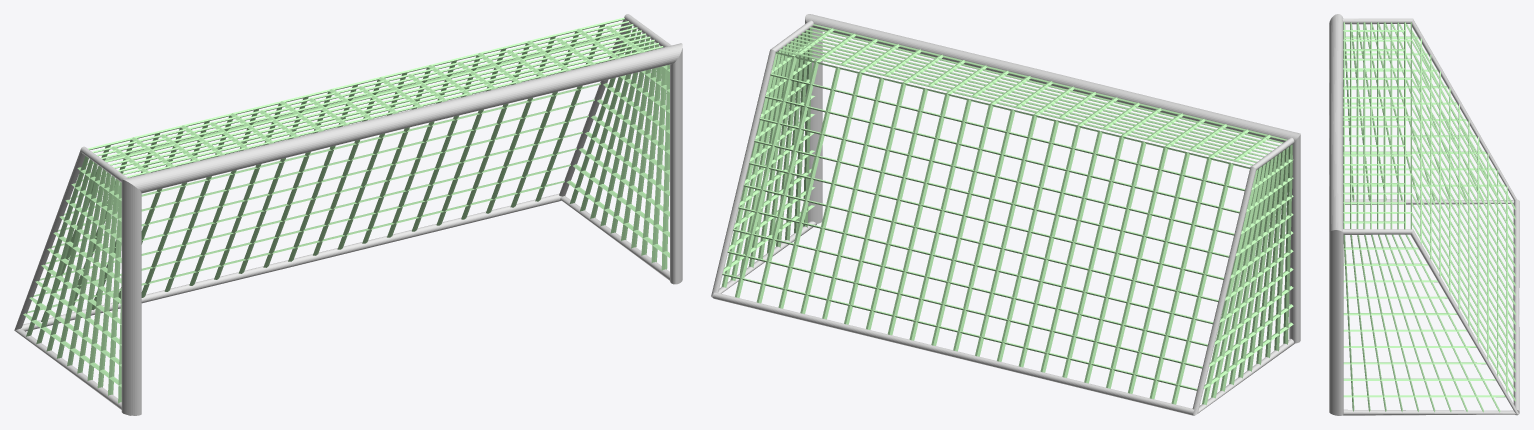
File: Goal.fbx
The picture shows the model from 3 angles, left to right: view 1: azimuth 30°, elevation 25°; view 2: azimuth 150°, elevation 25°; view 3: azimuth 270°, elevation 25°; orthographic projection. The views are drawn at different scales.
Visible parts, largest first — view 1: Cube, Cylinder, Plane; view 2: Cube, Cylinder, Plane; view 3: Cube, Cylinder, Plane.
Part boxes in pixels (x1,y1,x2,y2): Cube: (23,17,669,403); Cylinder: (121,43,682,415); Plane: (14,14,671,415); Cube: (721,24,1293,404); Cylinder: (805,14,1300,343); Plane: (711,20,1294,415); Cube: (1342,22,1515,412); Cylinder: (1329,14,1343,415); Plane: (1342,18,1519,415).
Size of the model in its own units: 514 by 209 by 191.
